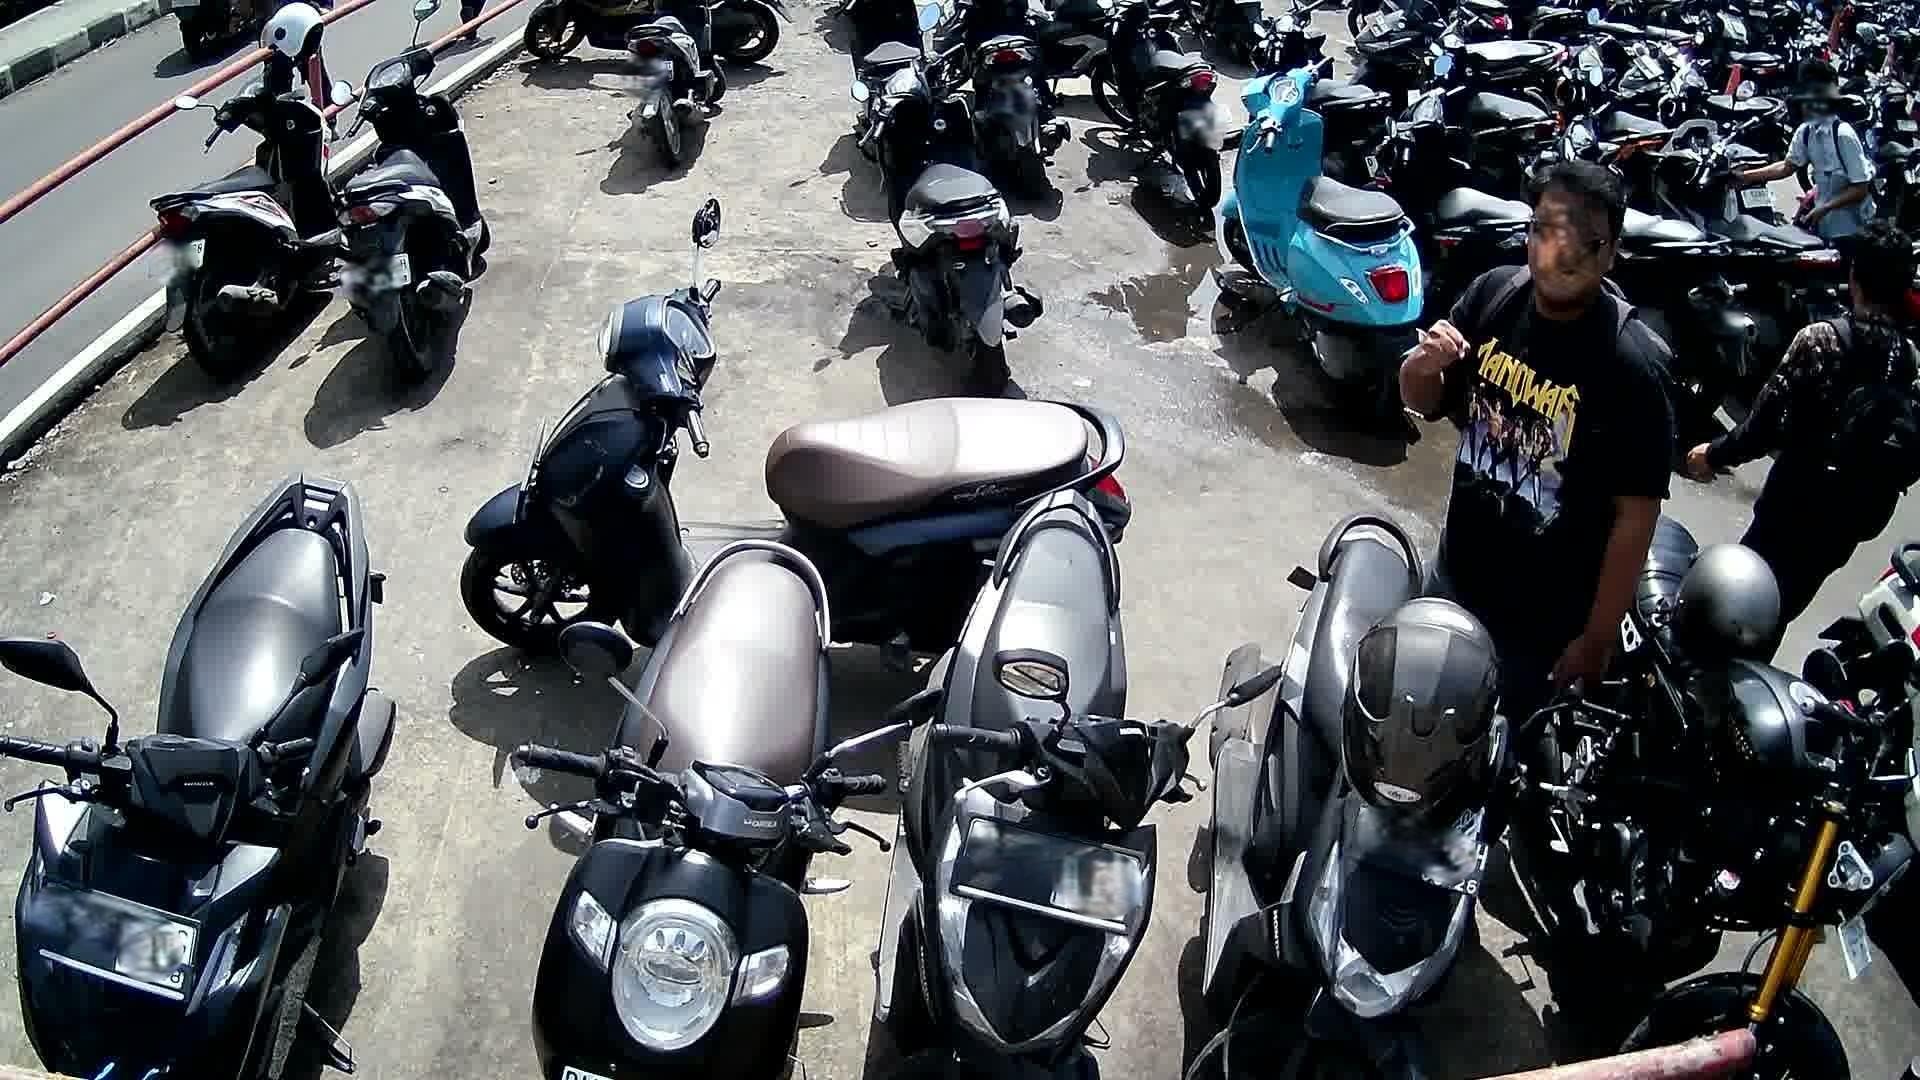motorcycle: (872, 488, 1282, 1080), (3, 475, 397, 1080), (1503, 510, 1920, 1080), (513, 539, 945, 1080), (1182, 508, 1585, 1080), (1215, 50, 1423, 435), (851, 1, 1043, 397), (326, 0, 492, 392), (149, 58, 347, 373), (1634, 84, 1844, 332), (1358, 53, 1532, 302), (1623, 208, 1762, 421)
